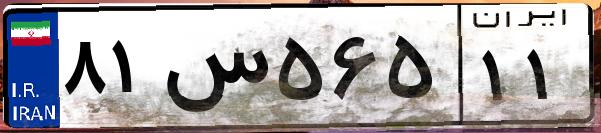1: (475, 38, 525, 113), (525, 38, 570, 115), (110, 28, 158, 98)
5: (270, 28, 330, 110), (385, 28, 445, 110)
6: (330, 28, 385, 110)
8: (57, 26, 110, 100)
س: (158, 20, 270, 120)
